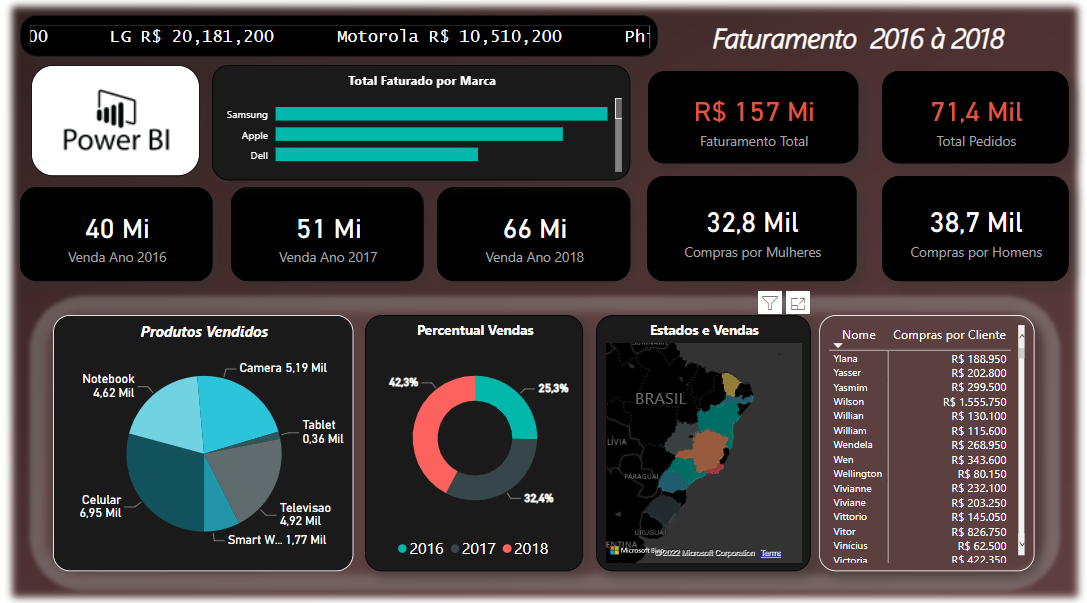

Layout of this report page (visuals, bound fields, positions):
{"tool":"powerbi","page":{"name":"Início","canvas":[1280,720],"ordinal":0},"visuals":[{"type":"card","fields":{"Values":["BaseVendas.Faturamento Total"]},"box":[761,86,247.8,109.3],"z":0},{"type":"pivotTable","fields":{"Rows":["CadastroClientes.Primeiro Nome"],"Values":["BaseVendas.Faturamento na Venda"]},"box":[963.2,373.9,254.4,301.6],"z":1000},{"type":"card","fields":{"Values":["Vendas por Cliente.Venda Ano 2016"]},"box":[20.8,222.4,226.6,111.2],"z":2000},{"type":"card","fields":{"Values":["Vendas por Cliente.Venda Ano 2017"]},"box":[269.7,222.4,226.6,111.2],"z":3000},{"type":"card","fields":{"Values":["Vendas por Cliente.Venda Ano 2018"]},"box":[512.9,222.4,228,111.2],"z":4000},{"type":"pieChart","title":"Produtos Vendidos","fields":{"Y":["CadastroProdutos.Total vendas Celular","CadastroProdutos.Total vendas Notebook","CadastroProdutos.Total vendas Camera","CadastroProdutos.Total vendas Tablet","CadastroProdutos.Total vendas Televisao","CadastroProdutos.Total vendas Smart Watch"]},"box":[59.8,373.9,354.4,301.6],"z":5000},{"type":"card","fields":{"Values":["BaseVendas.Total Pedidos"]},"box":[1036.5,86,220.1,109.3],"z":6000},{"type":"card","fields":{"Values":["CadastroClientes.Quantidade de mulheres"]},"box":[760.3,209.9,247.4,123.7],"z":7000},{"type":"card","fields":{"Values":["CadastroClientes.Quantidade de Homens"]},"box":[1036.9,209.9,219.6,123.7],"z":8000},{"type":"textbox","box":[772.7,19,472.3,59.8],"z":10000},{"type":"ScrollingTextVisual1448795304508","fields":{"Category":["CadastroProdutos.Marca"],"Measure Absolute":["BaseVendas.Faturamento na Venda"]},"box":[20.8,19.5,752,48.6],"z":11000},{"type":"donutChart","title":"Percentual Vendas ","fields":{"Y":["VendasClientes.Venda Ano 2016","VendasClientes.Venda Ano 2017","VendasClientes.Venda Ano 2018"]},"box":[428.1,373.9,257.1,301.6],"z":12000},{"type":"clusteredBarChart","fields":{"Category":["Vendas Ano 2016 a 2018.Marca"],"Y":["Vendas Ano 2016 a 2018.Total Faturado"]},"box":[247.4,79.2,493.4,136.2],"z":13000},{"type":"image","box":[34.7,79.2,198.8,130.7],"z":14000},{"type":"filledMap","fields":{"Category":["CadastroLojas.Estado"],"Series":["CadastroClientes.Primeiro Nome"]},"box":[700.5,373.9,253,301.6],"z":14001}]}

Visuals, with their boxes in screenshot pixels (x1, y1, x2, y2), scaled from the page's 1280x720 canvas onto the 1087x603 screenshot:
card - BaseVendas.Faturamento Total: {"x1": 646, "y1": 72, "x2": 857, "y2": 164}
pivotTable - CadastroClientes.Primeiro Nome x BaseVendas.Faturamento na Venda: {"x1": 818, "y1": 313, "x2": 1034, "y2": 566}
card - Vendas por Cliente.Venda Ano 2016: {"x1": 18, "y1": 186, "x2": 210, "y2": 279}
card - Vendas por Cliente.Venda Ano 2017: {"x1": 229, "y1": 186, "x2": 421, "y2": 279}
card - Vendas por Cliente.Venda Ano 2018: {"x1": 436, "y1": 186, "x2": 629, "y2": 279}
"Produtos Vendidos" pieChart: {"x1": 51, "y1": 313, "x2": 352, "y2": 566}
card - BaseVendas.Total Pedidos: {"x1": 880, "y1": 72, "x2": 1067, "y2": 164}
card - CadastroClientes.Quantidade de mulheres: {"x1": 646, "y1": 176, "x2": 856, "y2": 279}
card - CadastroClientes.Quantidade de Homens: {"x1": 881, "y1": 176, "x2": 1067, "y2": 279}
textbox: {"x1": 656, "y1": 16, "x2": 1057, "y2": 66}
ScrollingTextVisual1448795304508 - CadastroProdutos.Marca x BaseVendas.Faturamento na Venda: {"x1": 18, "y1": 16, "x2": 656, "y2": 57}
"Percentual Vendas " donutChart: {"x1": 364, "y1": 313, "x2": 582, "y2": 566}
clusteredBarChart - Vendas Ano 2016 a 2018.Marca x Vendas Ano 2016 a 2018.Total Faturado: {"x1": 210, "y1": 66, "x2": 629, "y2": 180}
image: {"x1": 29, "y1": 66, "x2": 198, "y2": 176}
filledMap - CadastroLojas.Estado x CadastroClientes.Primeiro Nome: {"x1": 595, "y1": 313, "x2": 810, "y2": 566}
